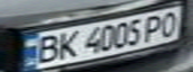0: (97, 21, 118, 52), (115, 19, 133, 48)
4: (81, 25, 103, 54)
5: (127, 16, 148, 46)
B: (27, 33, 63, 64)
K: (51, 29, 81, 61)
O: (157, 9, 184, 38)
P: (139, 12, 169, 42)
